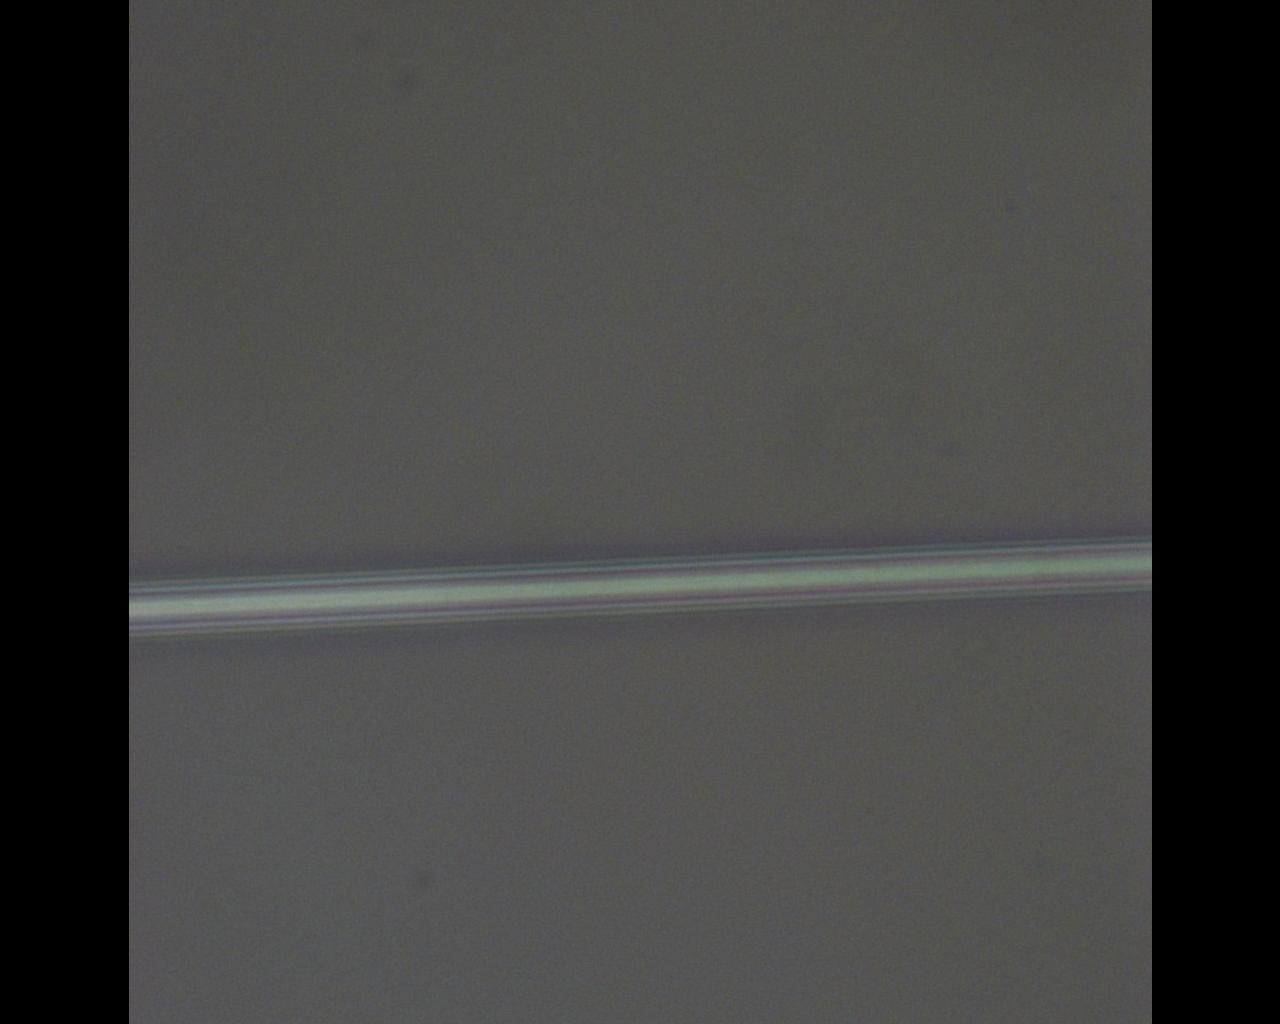fiber: (128, 540, 1152, 643)
